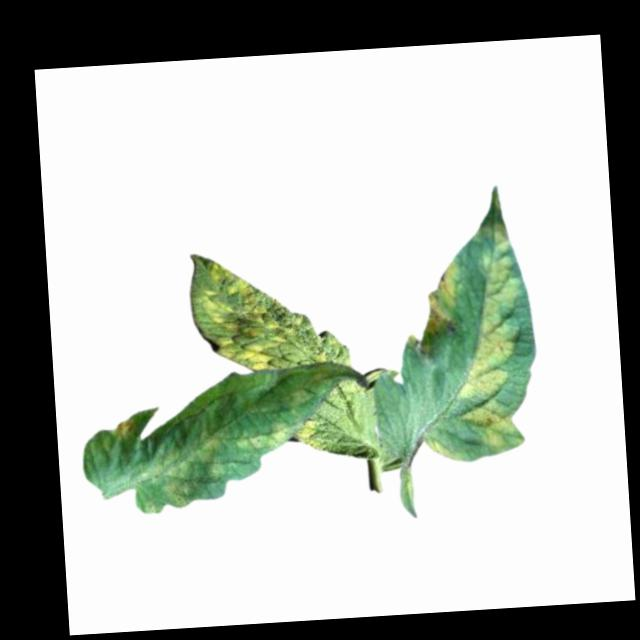Leaf_Mold: (444, 188, 528, 459), (187, 248, 353, 375), (138, 429, 231, 514), (403, 258, 466, 362), (238, 415, 288, 458), (291, 416, 326, 454), (112, 413, 138, 438)
